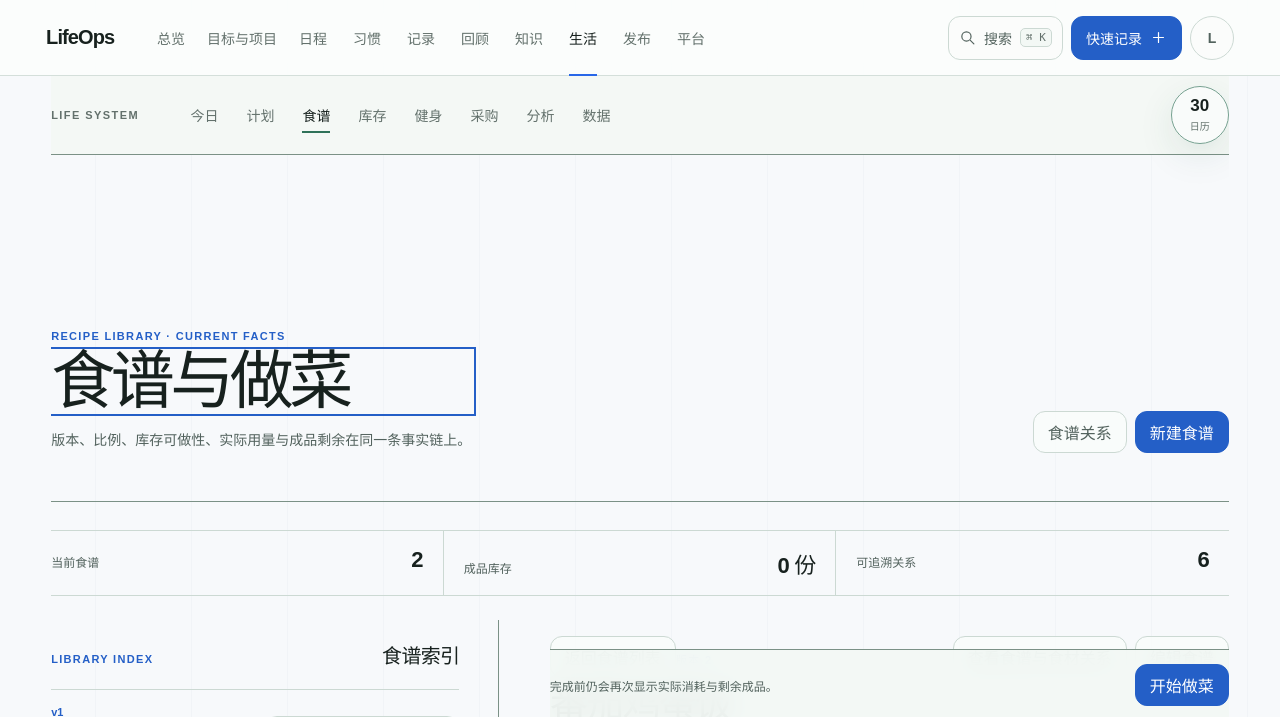
Test: recipe library, relations and cooking mode › keeps the cooking note session-only until the user explicitly promotes it
Click the button "开始做菜" at (1182, 685), box [1135,664,1229,706]
(page scrolled)
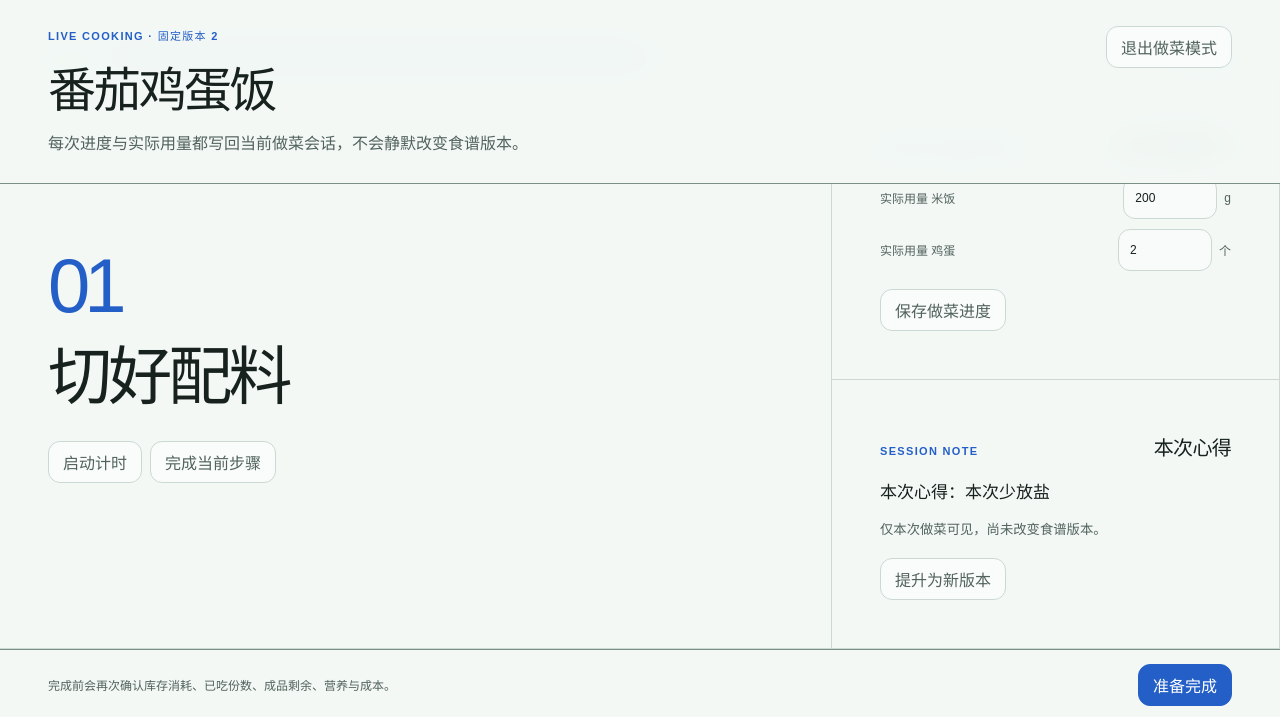
Result: the text "本次心得：本次少放盐" is shown at [880,483,1050,502]
Result: the text "仅本次做菜可见，尚未改变食谱版本。" is shown at [880,522,1107,537]
Click the button "提升为新版本" at (943, 579), box [880,558,1006,600]
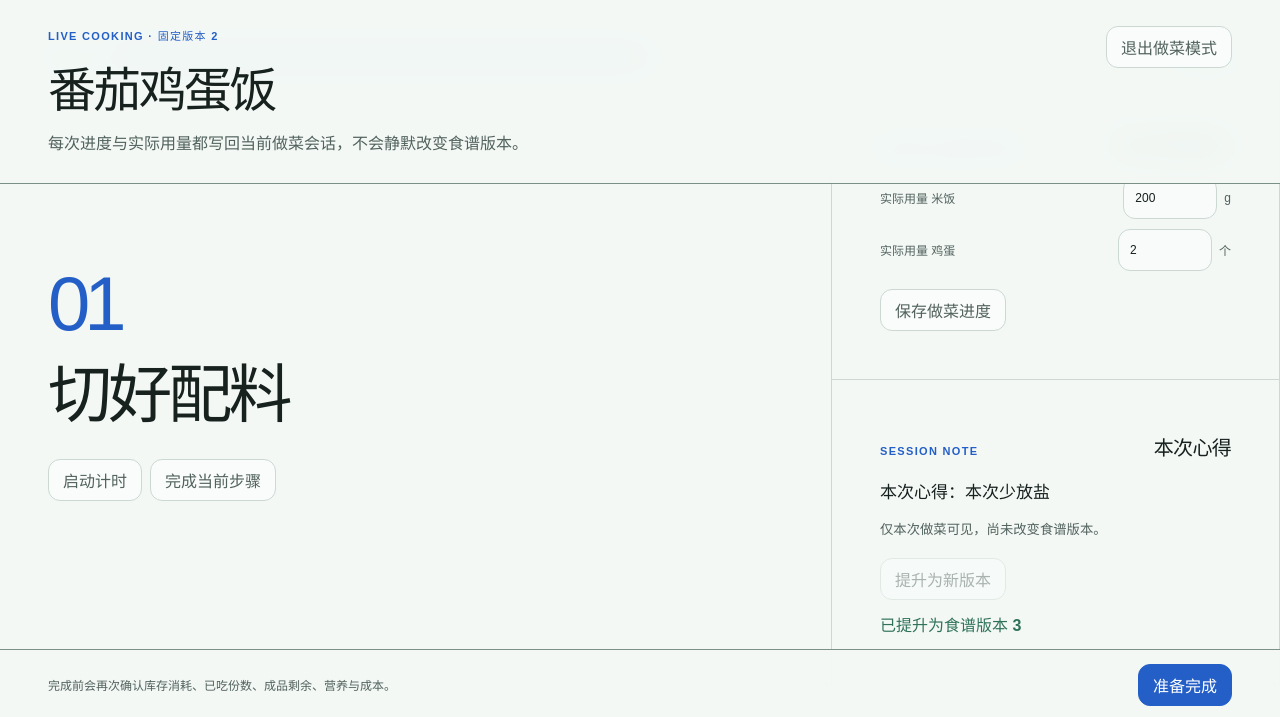
Result: the text "已提升为食谱版本 3" is shown at [880,617,1021,634]
